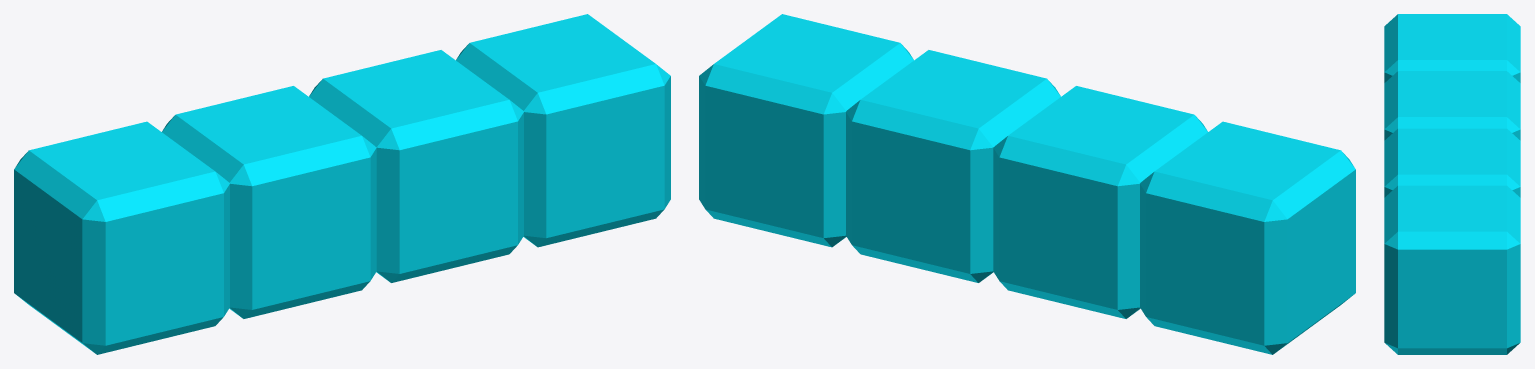
File: Tetris_I.fbx
3 views of the same model, side by side, from view 1: azimuth 30°, elevation 25°; view 2: azimuth 150°, elevation 25°; view 3: azimuth 270°, elevation 25° (orthographic). The views are drawn at different scales.
Parts seen in each view (by area): view 1: Box100; view 2: Box100; view 3: Box100.
Boxes of the visible parts, x1,y1,x2,y2 form: Box100: (14,14,670,354); Box100: (699,14,1355,354); Box100: (1384,14,1520,354).
Size of the model in its own units: 398 by 100 by 100.
